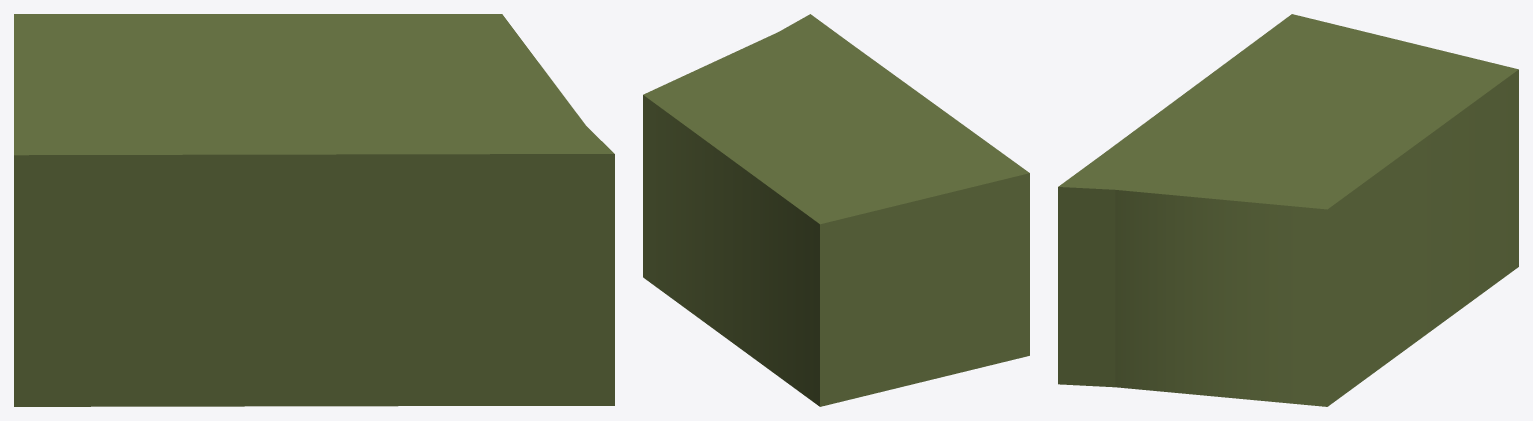
Rendered from ground_27.fbx.
3 renders of one model, left to right at view 1: azimuth 30°, elevation 25°; view 2: azimuth 150°, elevation 25°; view 3: azimuth 270°, elevation 25°, orthographic. The views are drawn at different scales.
Parts seen in each view (by area): view 1: ground_27; view 2: ground_27; view 3: ground_27.
Boxes of the visible parts, bbox=[...] form: ground_27: bbox=[14, 14, 614, 406]; ground_27: bbox=[643, 14, 1029, 406]; ground_27: bbox=[1058, 14, 1518, 406].
Bounding box in the file's own units: 6.44 × 3.03 × 6.42.
